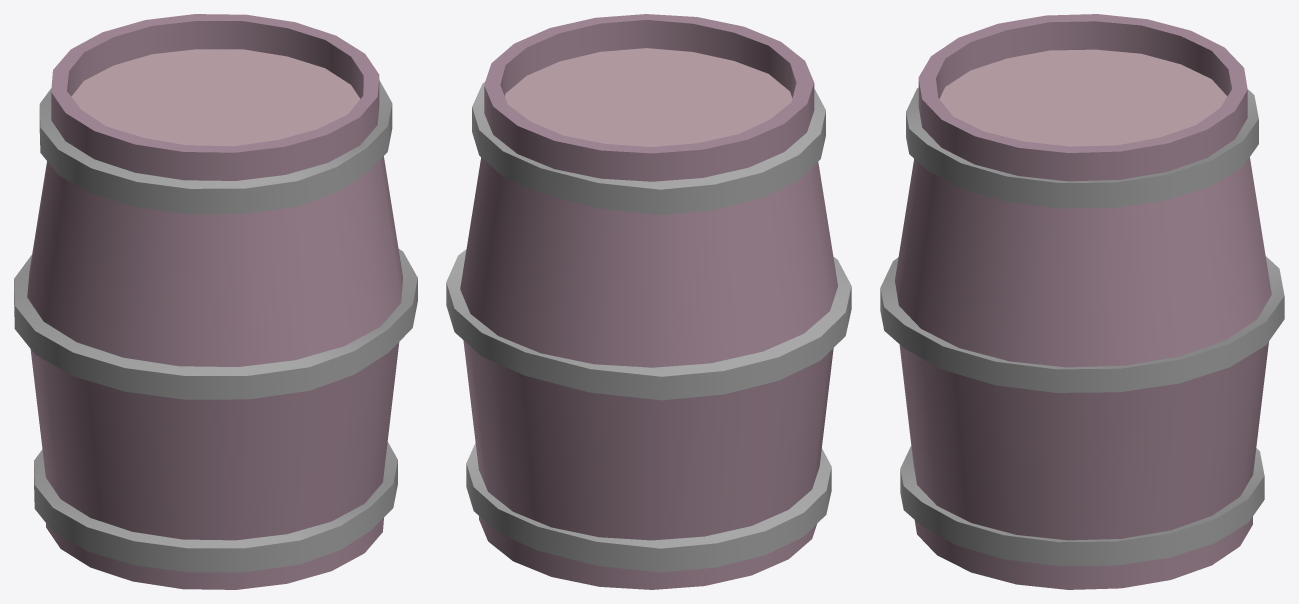
Rendered from SM_Barrel_001.fbx.
The picture shows the model from 3 angles, left to right: view 1: azimuth 30°, elevation 25°; view 2: azimuth 150°, elevation 25°; view 3: azimuth 270°, elevation 25°; orthographic projection.
Parts seen in each view (by area): view 1: SM_Barrel; view 2: SM_Barrel; view 3: SM_Barrel.
Part boxes in pixels (bbox=[...]): SM_Barrel: bbox=[14, 14, 417, 589]; SM_Barrel: bbox=[446, 14, 851, 589]; SM_Barrel: bbox=[880, 14, 1284, 589].
Size of the model in its own units: 92.47 by 110 by 92.47.
